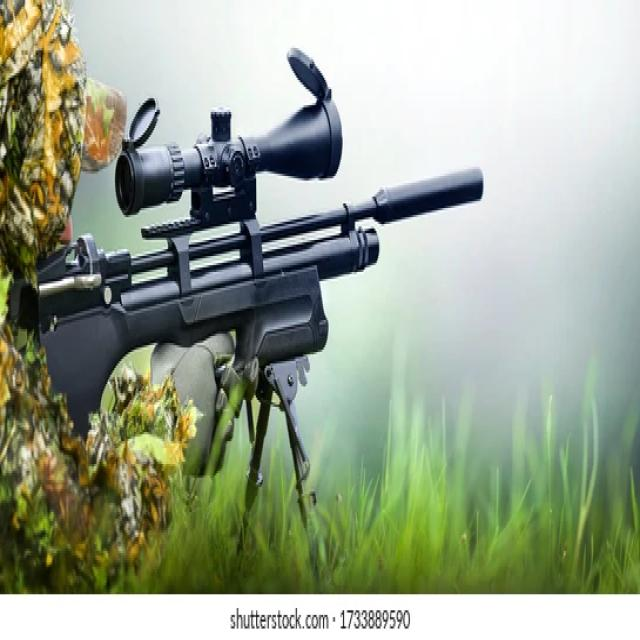soldier: (1, 1, 484, 584)
